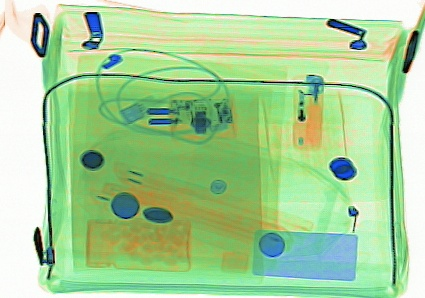lighter: (290, 71, 326, 151)
